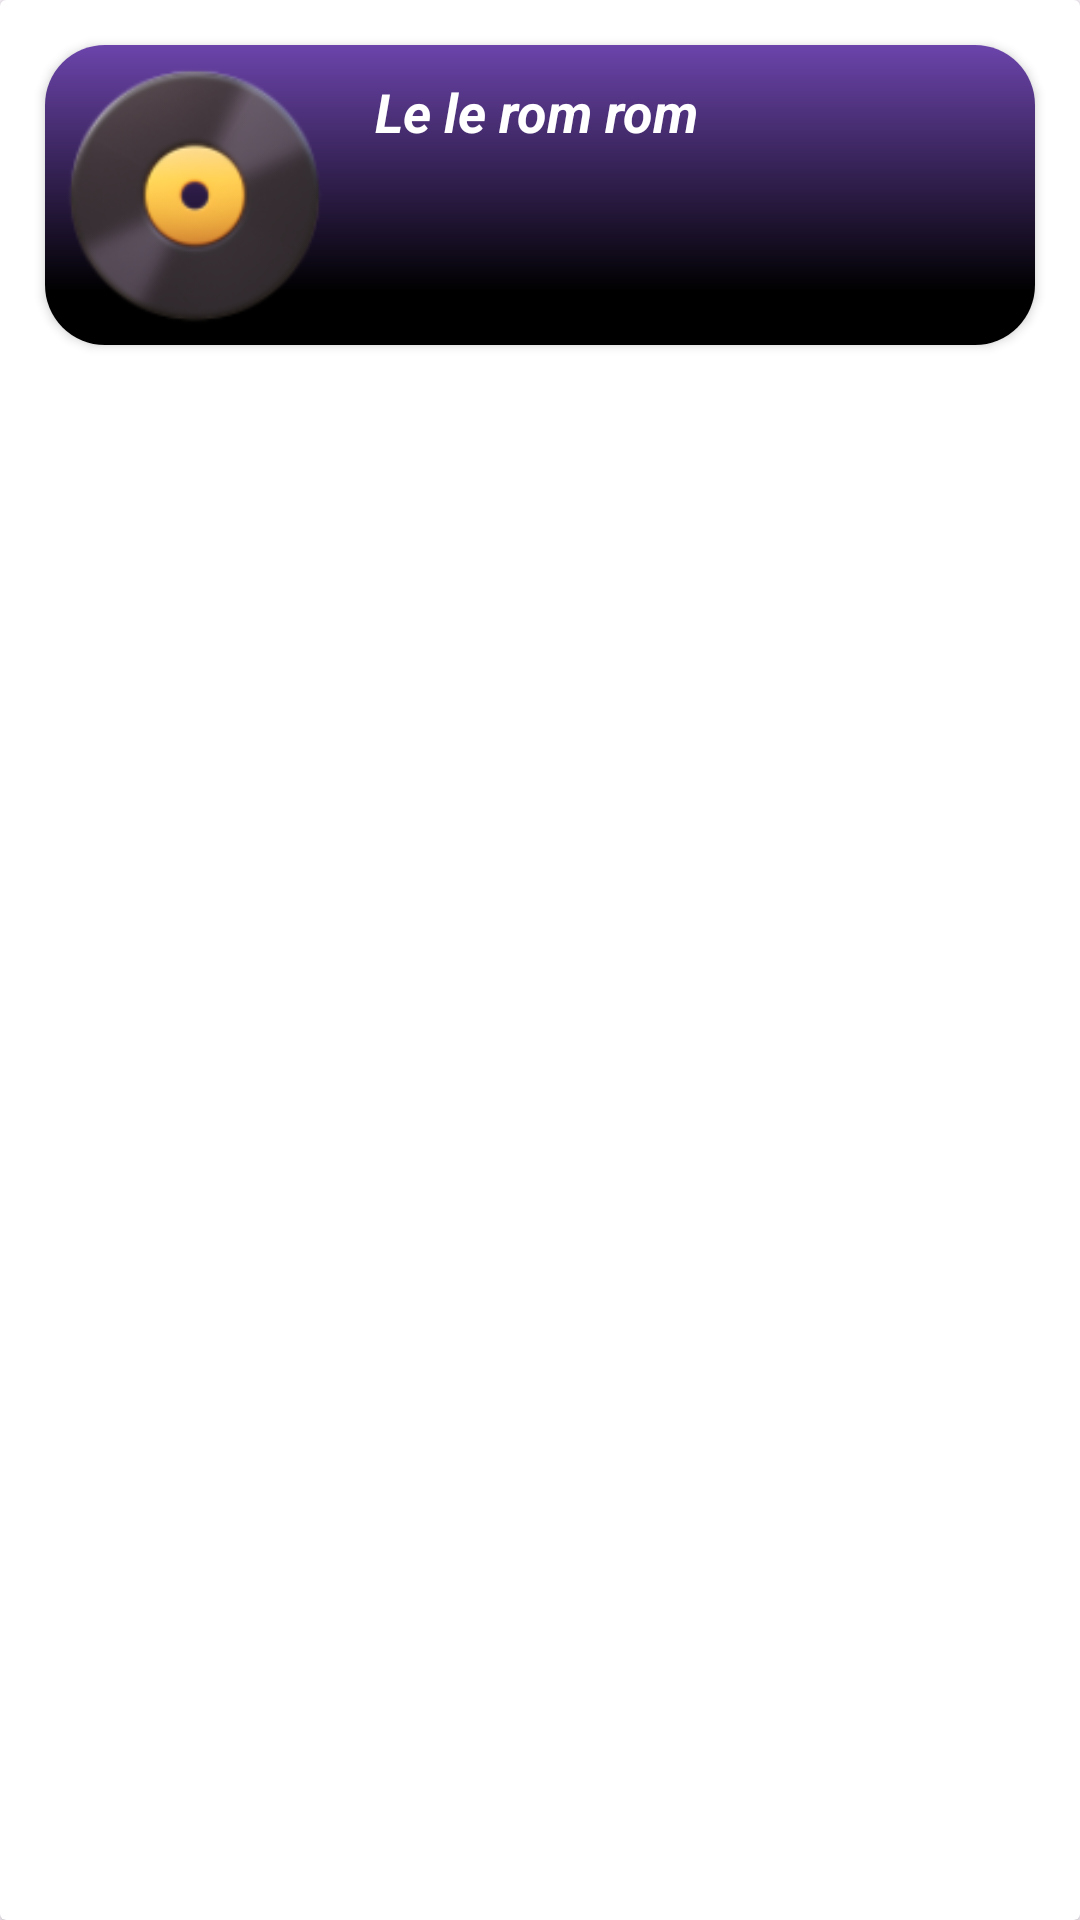

Icon bounding boxes for this 1080 × 1920 phone screenshot, format {"left": x1, "top": y1, "right": x2, "bottom": y2}:
musicdisc: {"left": 45, "top": 45, "right": 345, "bottom": 345}
